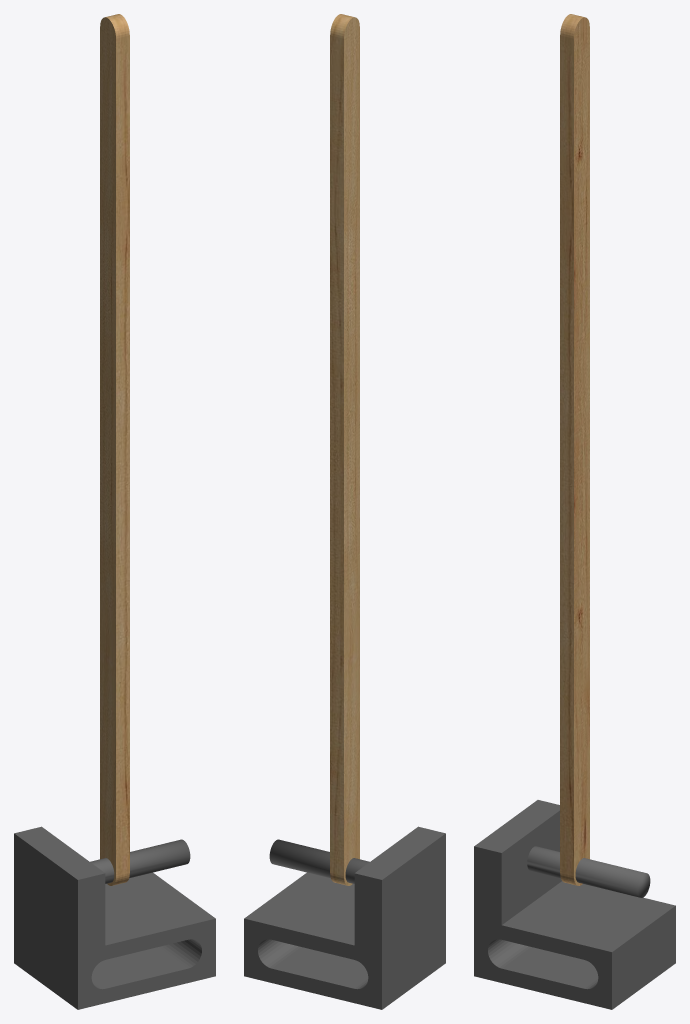
The picture shows the model from 3 angles, left to right: view 1: azimuth 30°, elevation 25°; view 2: azimuth 150°, elevation 25°; view 3: azimuth 330°, elevation 25°; orthographic projection.
Parts seen in each view (by area): view 1: Cube.002, Cube; view 2: Cube.002, Cube; view 3: Cube.002, Cube.
Part boxes in pixels (x1,y1,x2,y2): Cube.002: (14,826,215,1009); Cube: (100,14,129,885); Cube.002: (244,826,445,1009); Cube: (330,14,359,885); Cube.002: (474,800,675,1009); Cube: (560,14,589,885).
Bounding box in the file's own units: 0.05 × 0.33 × 0.04.
Materials: 2 (1 with a texture image).
